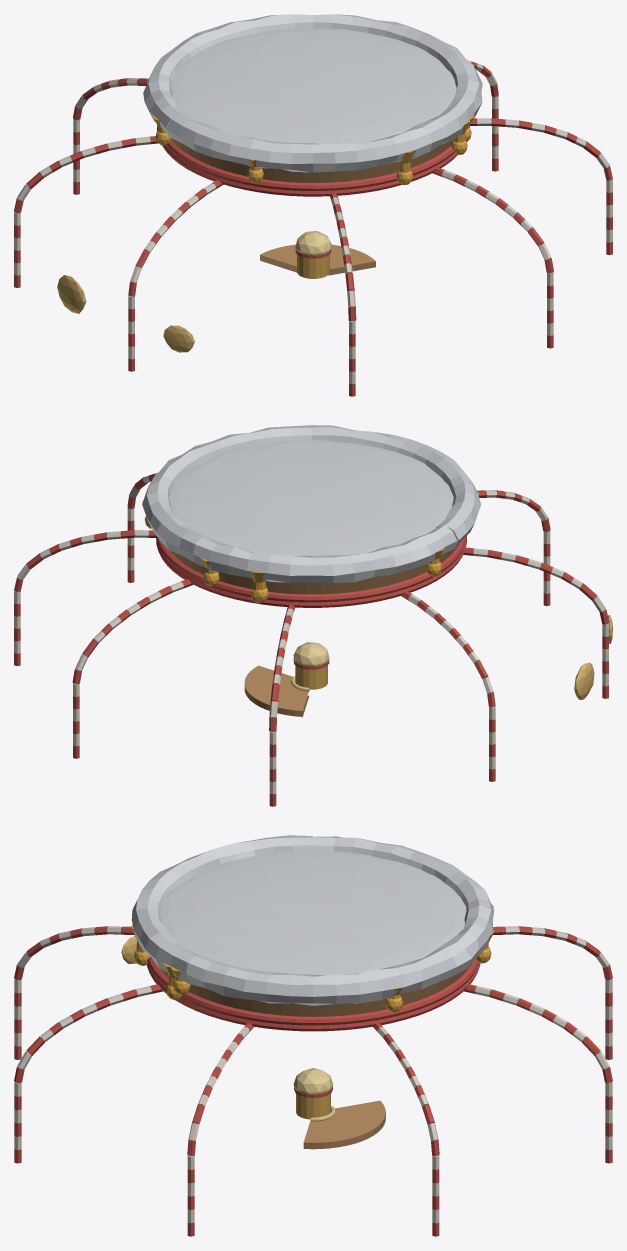
Rendered from goo_jar_trim_2_top@winter.fbx.
3 renders of one model, top to bottom at view 1: azimuth 30°, elevation 25°; view 2: azimuth 150°, elevation 25°; view 3: azimuth 270°, elevation 25°, orthographic. The views are drawn at different scales.
Visible parts, largest first — view 1: goo_jar_trim_2_top; view 2: goo_jar_trim_2_top; view 3: goo_jar_trim_2_top.
Boxes of the visible parts, bbox=[...] form: goo_jar_trim_2_top: bbox=[14, 14, 612, 396]; goo_jar_trim_2_top: bbox=[14, 425, 612, 806]; goo_jar_trim_2_top: bbox=[14, 835, 612, 1236].
Bounding box in the file's own units: 53.09 × 20.05 × 50.9.
